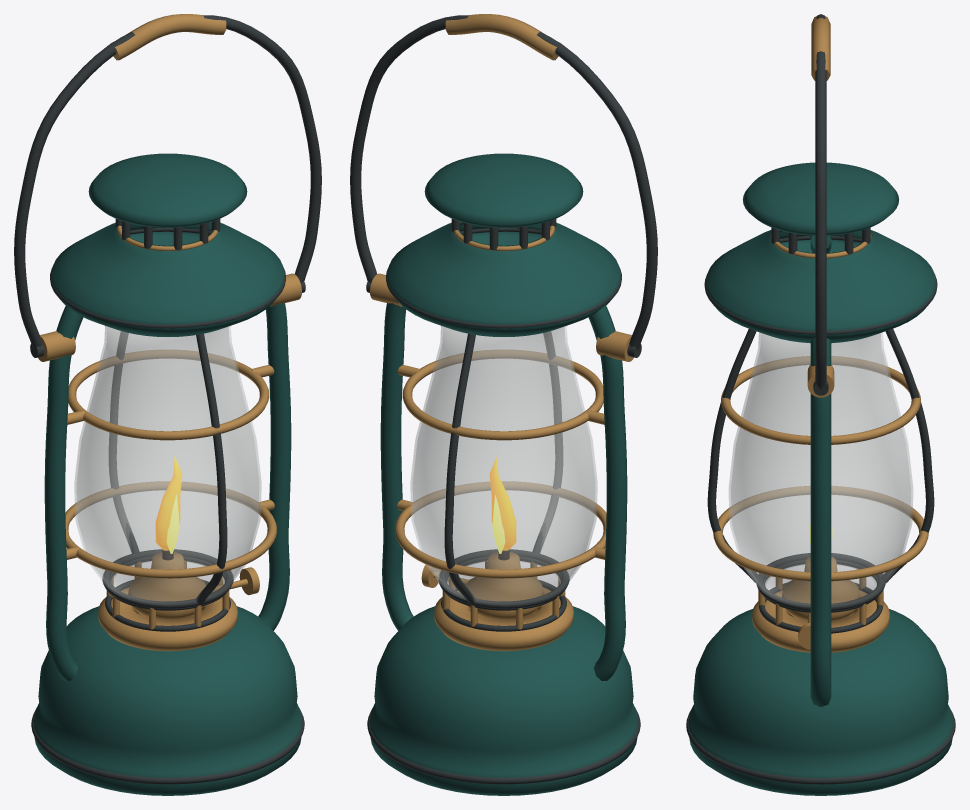
File: model.web.glb
3 views of the same model, side by side, from view 1: azimuth 30°, elevation 25°; view 2: azimuth 150°, elevation 25°; view 3: azimuth 270°, elevation 25° (orthographic).
Parts seen in each view (by area): view 1: Double wall pressed exhaust hood, Hollow blown hurricane chimney, Bail shoulder rivet, Bail center grip sleeve, Swept structural air tube, Burner wick gallery, Leaning amber flame; view 2: Double wall pressed exhaust hood, Hollow blown hurricane chimney, Bail shoulder rivet, Bail center grip sleeve, Swept structural air tube, Burner wick gallery, Leaning amber flame; view 3: Double wall pressed exhaust hood, Hollow blown hurricane chimney, Bail shoulder rivet, Bail center grip sleeve, Swept structural air tube, Burner wick gallery.
Boxes of the visible parts, x1,y1,x2,y2 form: Double wall pressed exhaust hood: (33,153,302,795); Hollow blown hurricane chimney: (74,326,261,604); Bail shoulder rivet: (14,15,321,784); Bail center grip sleeve: (38,14,301,629); Swept structural air tube: (44,303,291,680); Burner wick gallery: (98,552,237,651); Leaning amber flame: (155,456,182,550); Double wall pressed exhaust hood: (369,153,638,795); Hollow blown hurricane chimney: (410,326,597,604); Bail shoulder rivet: (350,15,657,784); Bail center grip sleeve: (370,14,633,629); Swept structural air tube: (380,303,627,680); Burner wick gallery: (434,552,573,651); Leaning amber flame: (489,456,516,550); Double wall pressed exhaust hood: (688,162,953,795); Hollow blown hurricane chimney: (729,332,912,606); Bail shoulder rivet: (686,14,955,784); Bail center grip sleeve: (713,16,928,649); Swept structural air tube: (810,235,831,706); Burner wick gallery: (752,557,889,652).
Size of the model in its own units: 0.1321 by 0.3 by 0.102.
